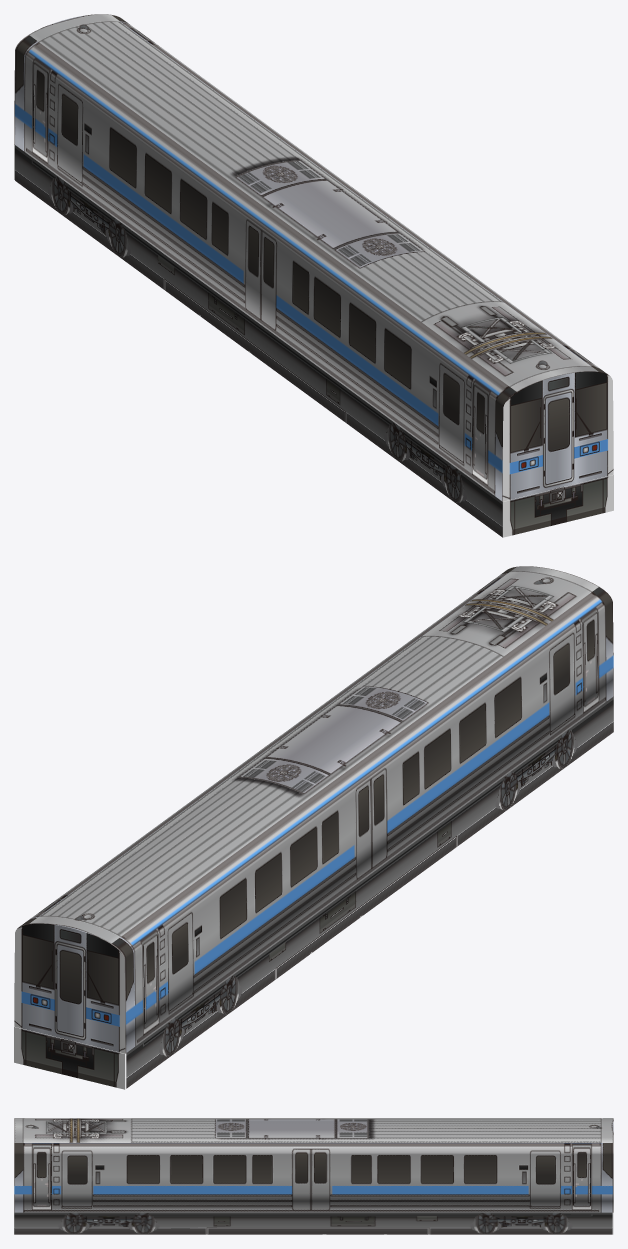
Rendered from car1.glb.
3 views of the same model, one above another, from view 1: azimuth 30°, elevation 25°; view 2: azimuth 150°, elevation 25°; view 3: azimuth 270°, elevation 25° (orthographic). The views are drawn at different scales.
Visible parts, largest first — view 1: jr-shikoku-7000-car1; view 2: jr-shikoku-7000-car1; view 3: jr-shikoku-7000-car1.
Boxes of the visible parts, x1=… form: jr-shikoku-7000-car1: x1=14, y1=14, x2=613, y2=537; jr-shikoku-7000-car1: x1=14, y1=566, x2=613, y2=1089; jr-shikoku-7000-car1: x1=14, y1=1118, x2=613, y2=1234.
Size of the model in its own units: 2.8 by 3.57 by 21.33.
Materials: 9 (8 with a texture image).
